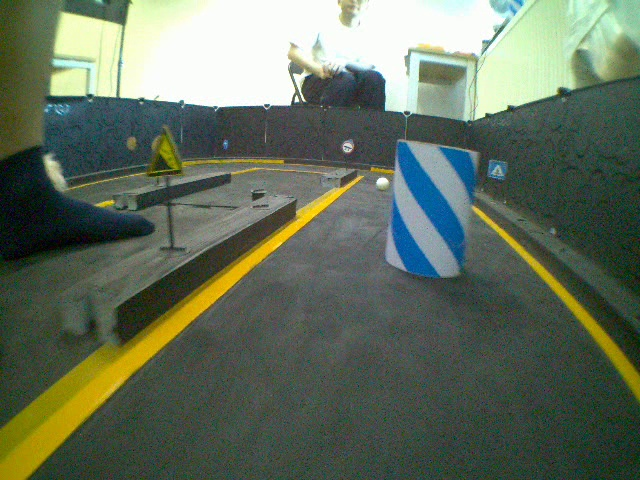bucket: (385, 136, 478, 281)
